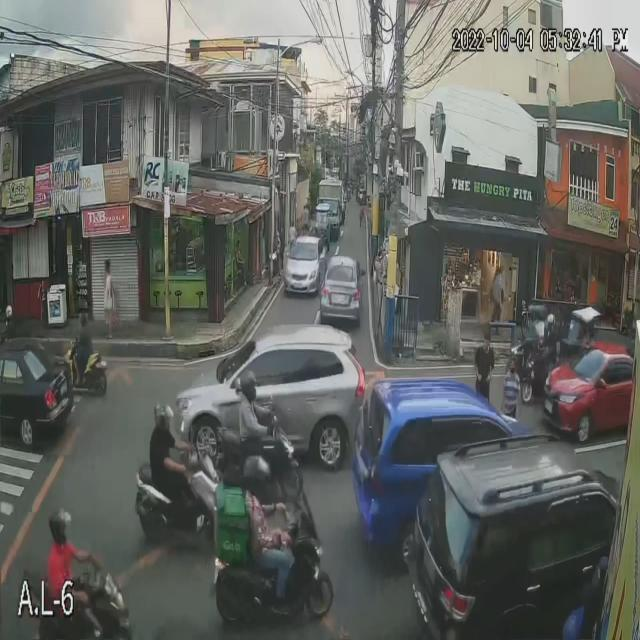Full-Faced: (244, 458, 273, 504), (239, 369, 261, 407), (545, 314, 556, 333)
Half-Faced: (148, 399, 178, 437), (49, 506, 76, 547)
